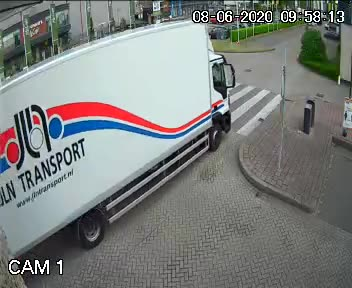car: (0, 10, 246, 267)
